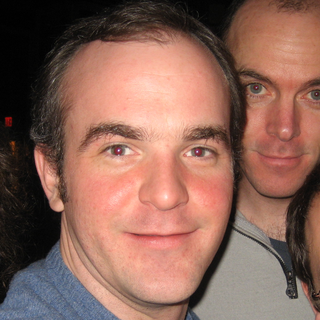eye: (96, 139, 144, 163), (179, 140, 223, 165), (238, 80, 276, 102), (300, 85, 320, 102)
